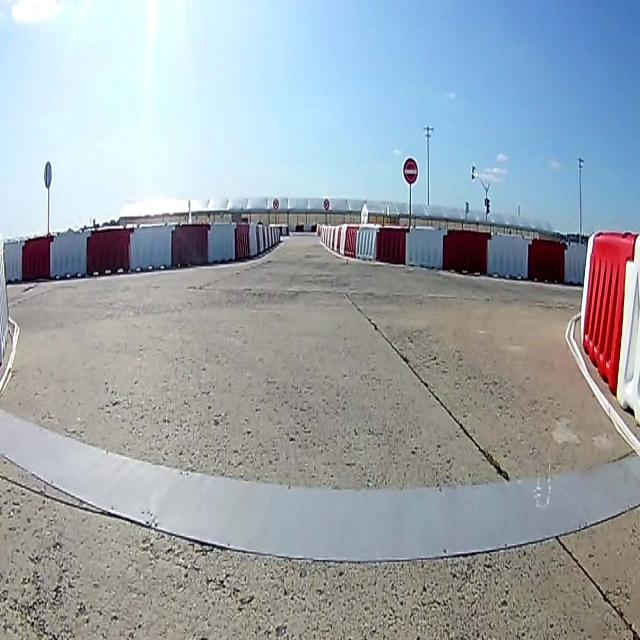girisyok: (404, 158, 418, 182)
